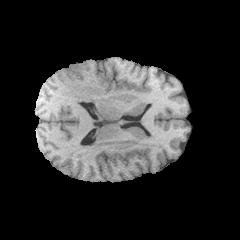glioma: (57, 64, 106, 103)
